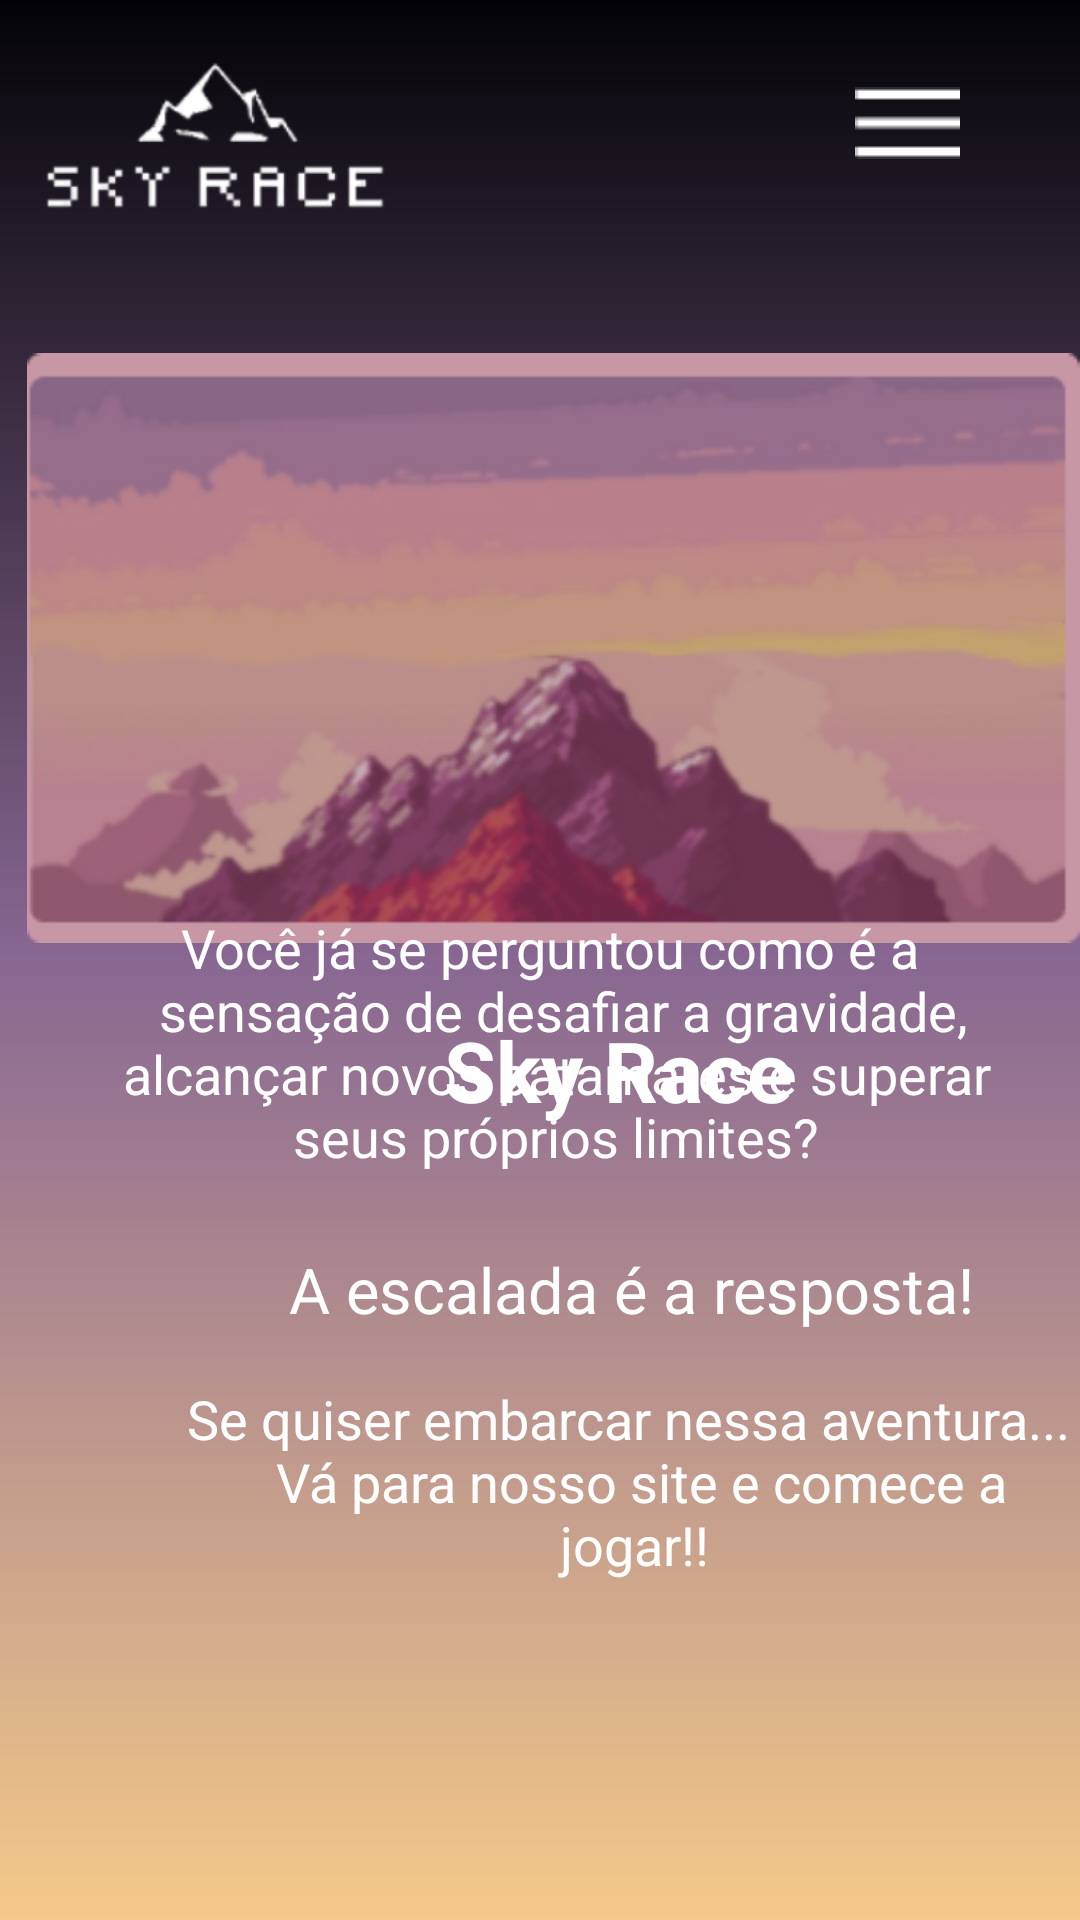

Named icons in this screenshot (1080×1920) and their centers, [x,y]:
menu: [907,124]
